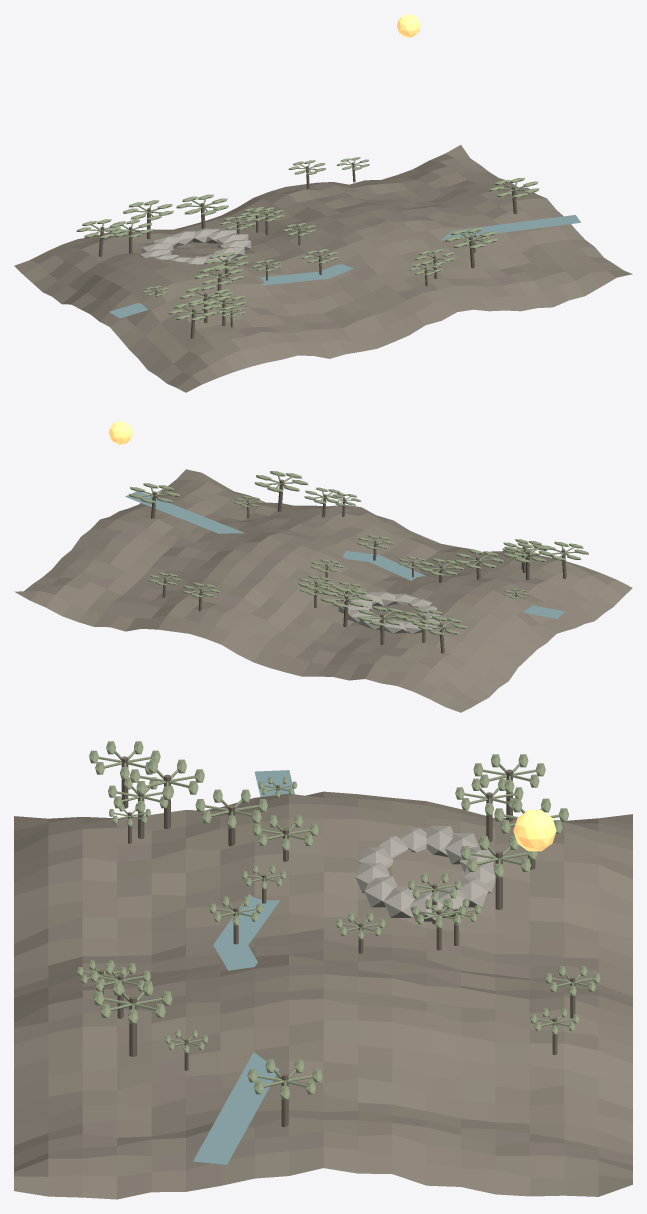
Rendered from world-00-boundary.glb.
3 renders of one model, top to bottom at view 1: azimuth 30°, elevation 25°; view 2: azimuth 150°, elevation 25°; view 3: azimuth 270°, elevation 25°, orthographic. The views are drawn at different scales.
Visible parts, largest first — view 1: BH_WORLD_00_Terrain.002, BH_WORLD_00_Batch_03, BH_WORLD_00_Batch_04, BH_WORLD_00_River.002, BH_WORLD_00_Batch_02; view 2: BH_WORLD_00_Terrain.002, BH_WORLD_00_Batch_03, BH_WORLD_00_River.002, BH_WORLD_00_Batch_04, BH_WORLD_00_Batch_02, Impact_Light.002; view 3: BH_WORLD_00_Terrain.002, BH_WORLD_00_Batch_03, BH_WORLD_00_Batch_04, BH_WORLD_00_River.002, BH_WORLD_00_Batch_02, Impact_Light.002.
Boxes of the visible parts, x1,y1,x2,y2 form: BH_WORLD_00_Terrain.002: [14, 145, 632, 392]; BH_WORLD_00_Batch_03: [76, 157, 539, 320]; BH_WORLD_00_Batch_04: [140, 228, 250, 264]; BH_WORLD_00_River.002: [109, 215, 580, 318]; BH_WORLD_00_Batch_02: [98, 162, 517, 338]; BH_WORLD_00_Terrain.002: [14, 469, 632, 712]; BH_WORLD_00_Batch_03: [129, 471, 588, 635]; BH_WORLD_00_River.002: [125, 491, 564, 618]; BH_WORLD_00_Batch_04: [338, 591, 440, 633]; BH_WORLD_00_Batch_02: [151, 479, 566, 653]; Impact_Light.002: [109, 421, 132, 444]; BH_WORLD_00_Terrain.002: [14, 791, 632, 1199]; BH_WORLD_00_Batch_03: [77, 741, 600, 1099]; BH_WORLD_00_Batch_04: [355, 826, 495, 921]; BH_WORLD_00_River.002: [193, 770, 294, 1164]; BH_WORLD_00_Batch_02: [99, 756, 575, 1126]; Impact_Light.002: [513, 810, 556, 851].
Size of the model in its own units: 18.11 by 7.21 by 12.
